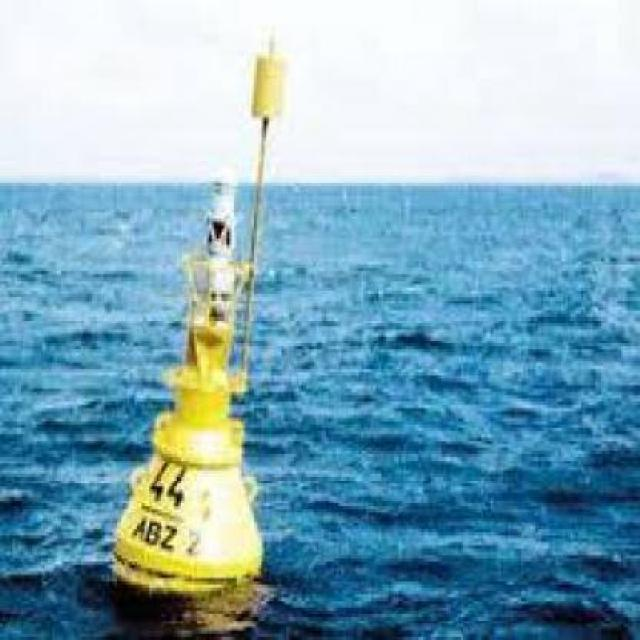buoy: (103, 17, 310, 616)
